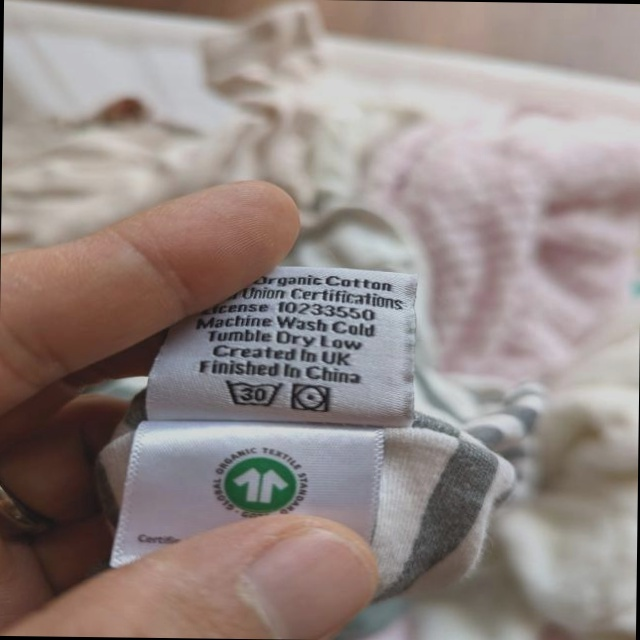30C: (220, 376, 285, 411)
tumble_dry_low: (289, 381, 333, 416)
